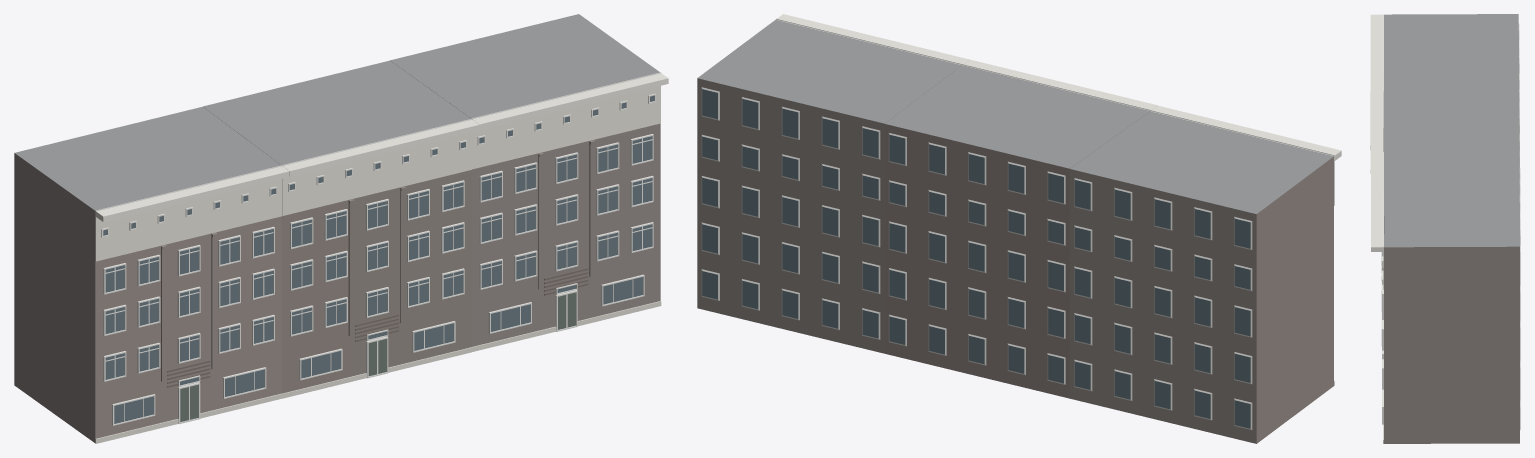
Rendered from chunk-face-hembrug-44-154-r1.glb.
The picture shows the model from 3 angles, left to right: view 1: azimuth 30°, elevation 25°; view 2: azimuth 150°, elevation 25°; view 3: azimuth 270°, elevation 25°; orthographic projection. The views are drawn at different scales.
Visible parts, largest first — view 1: face-hembrug-44-154-r1; view 2: face-hembrug-44-154-r1; view 3: face-hembrug-44-154-r1.
Part boxes in pixels (x1,y1,x2,y2): face-hembrug-44-154-r1: (14,14,668,443); face-hembrug-44-154-r1: (697,14,1341,443); face-hembrug-44-154-r1: (1370,14,1520,443).
Bounding box in the file's own units: 37.57 × 14.79 × 10.22.
